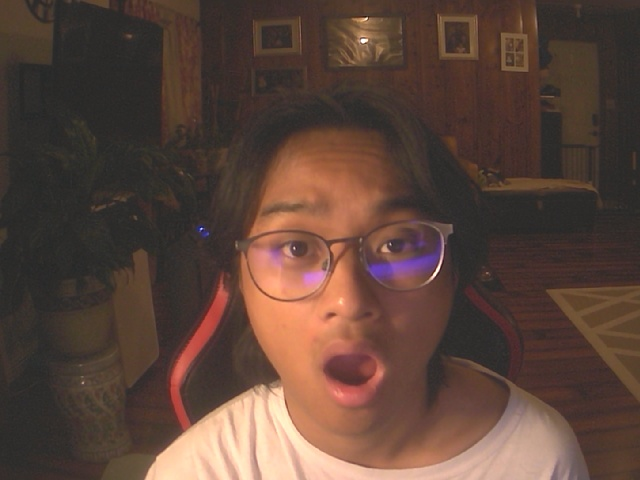fear: (207, 83, 491, 440)
